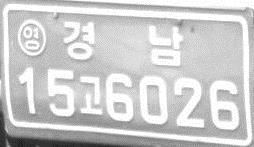0: (138, 74, 169, 125)
1: (17, 66, 40, 116)
2: (173, 75, 207, 128)
5: (46, 66, 76, 118)
6: (208, 78, 241, 131), (104, 72, 135, 121)
경남_D: (61, 19, 185, 66)
고: (76, 74, 104, 116)
영: (17, 18, 47, 57)
